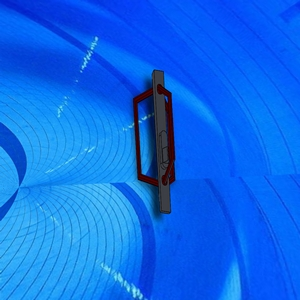submarine: (131, 58, 182, 227)
